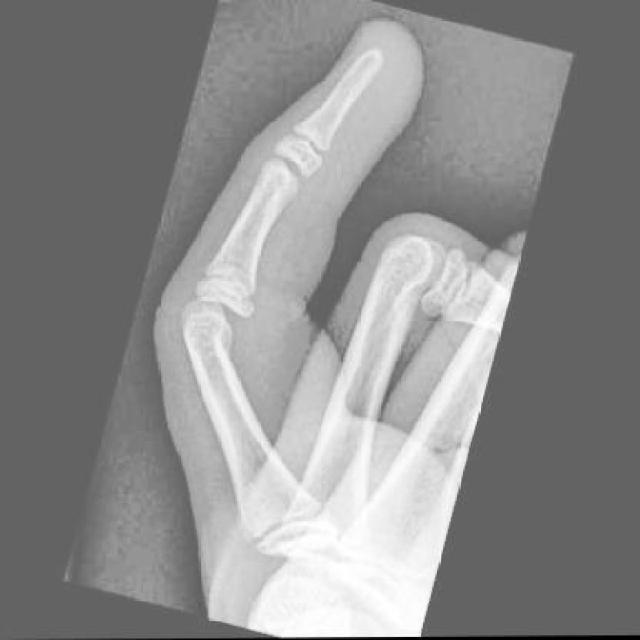Fracture: (277, 119, 337, 172)
